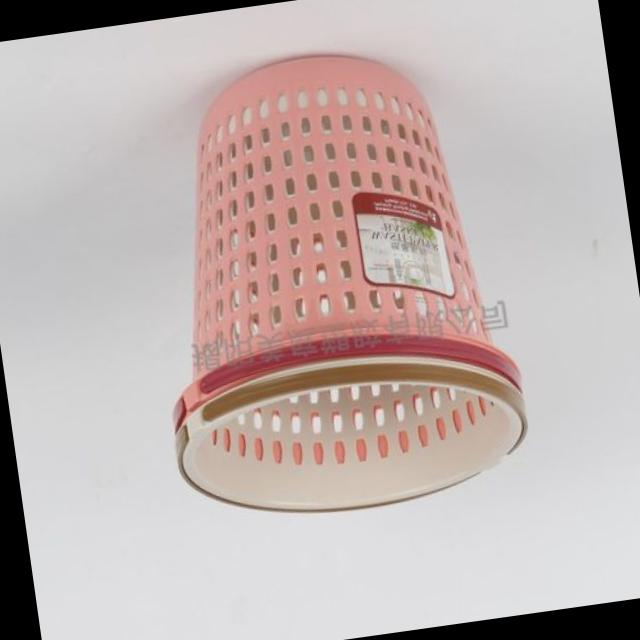dustbin: (115, 21, 546, 545)
